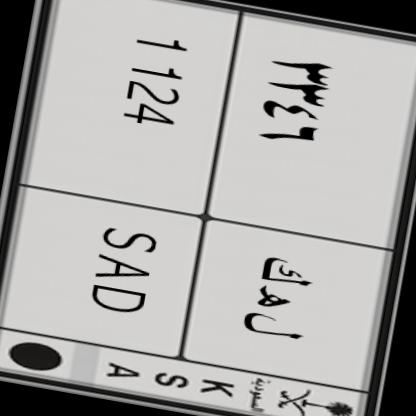english: (0, 0, 252, 365)
